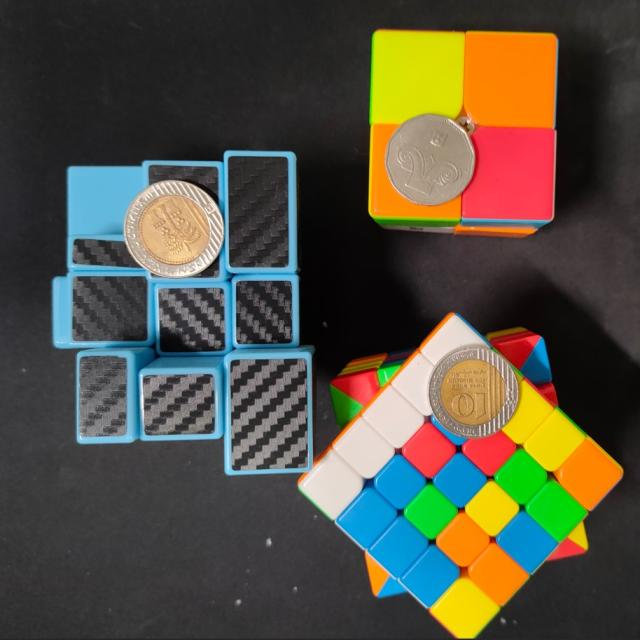10-shekel: (121, 182, 222, 290), (428, 346, 514, 436)
5-shekel: (385, 112, 479, 202)
